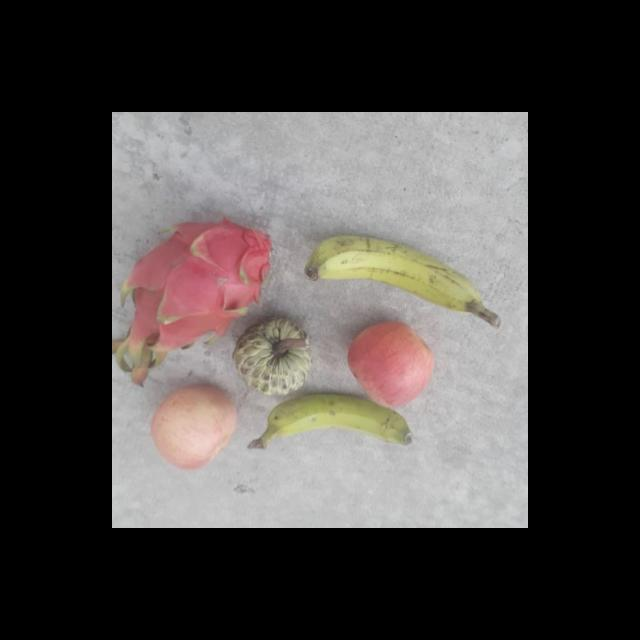Sakya fruit: (232, 317, 313, 396)
apple: (347, 322, 435, 409), (148, 386, 238, 470)
banana: (303, 233, 503, 329), (244, 394, 414, 451)
pitaya: (124, 220, 273, 350)
